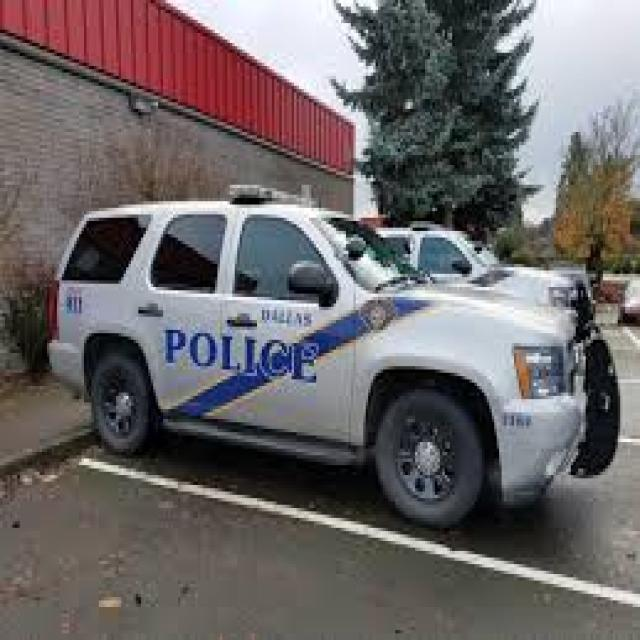cop: (52, 180, 627, 530)
